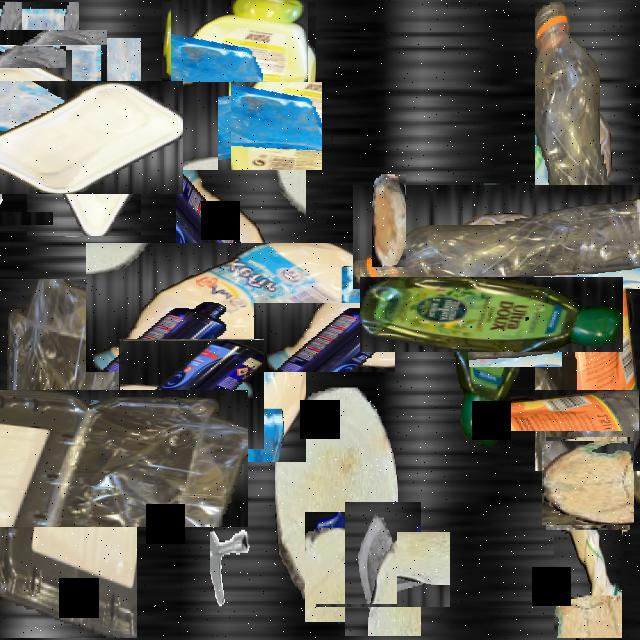glass: (183, 65, 305, 187), (330, 516, 436, 622), (51, 426, 127, 562), (0, 16, 93, 116), (305, 512, 367, 622), (0, 24, 44, 90)
metal: (210, 526, 270, 633), (0, 191, 33, 245)
plastic: (444, 92, 640, 380), (131, 198, 351, 417), (0, 334, 192, 582), (407, 230, 577, 399), (6, 59, 162, 215), (562, 71, 640, 377), (505, 232, 640, 403), (166, 0, 312, 144), (127, 331, 255, 458), (554, 345, 640, 475), (554, 489, 622, 638)
wood: (275, 388, 397, 604), (544, 439, 632, 528), (372, 174, 406, 267)
